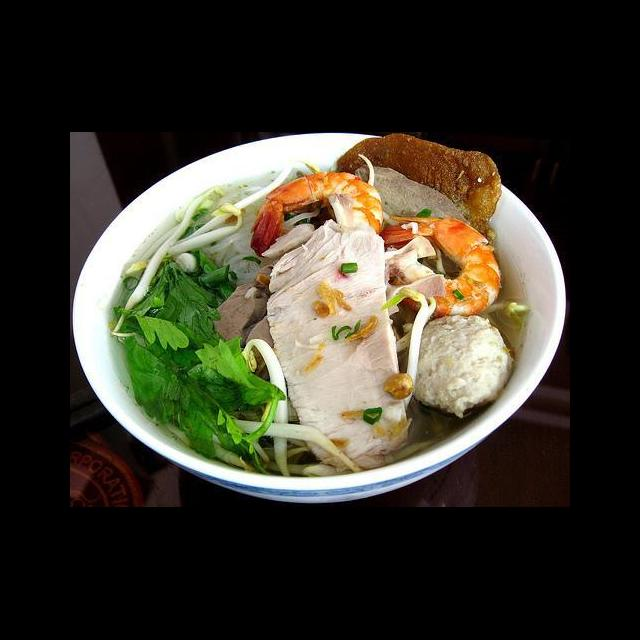banh hu tieu: (185, 178, 280, 288)
gan: (347, 162, 475, 232)
hu tieu: (70, 151, 570, 501)
thit heo: (261, 215, 418, 474)
tom: (374, 208, 507, 322), (245, 164, 392, 266)
